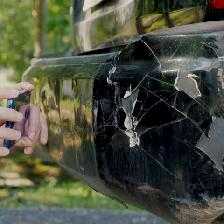bumper_dent: (87, 37, 223, 179)
